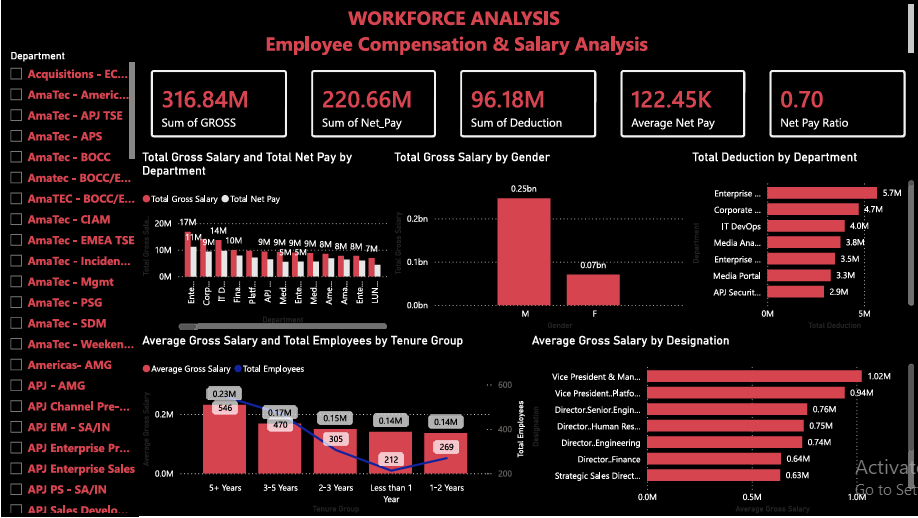

The dashboard page shown, as its layout file describes it:
{"tool":"powerbi","page":{"name":"Page 2","canvas":[1280,720],"ordinal":1},"visuals":[{"type":"lineClusteredColumnComboChart","fields":{"Category":["NW.Tenure Group"],"Y":["Measure.Average Gross Salary"],"Y2":["Measure.Total Employees"]},"box":[192,464,544,256],"z":0},{"type":"clusteredColumnChart","fields":{"Category":["NW.Department"],"Y":["Measure.Total Gross Salary","Measure.Total Net Pay"]},"box":[192,208,352,256],"z":1000},{"type":"clusteredColumnChart","fields":{"Category":["NW.Gender"],"Y":["Measure.Total Gross Salary"]},"box":[544,208,416,256],"z":2000},{"type":"clusteredBarChart","fields":{"Y":["Measure.Total Deduction"],"Category":["NW.Department"]},"box":[960,208,320,256],"z":3000},{"type":"barChart","fields":{"Category":["NW.Designation"],"Y":["Measure.Average Gross Salary"]},"box":[736,464,544,256],"z":4000},{"type":"textbox","box":[0,0,1280,80],"z":5000},{"type":"slicer","fields":{"Values":["NW.Department"]},"box":[0,64,192,656],"z":6000},{"type":"cardVisual","fields":{"Data":["Sum(NW.GROSS)"]},"box":[192,80,224,128],"z":7000},{"type":"cardVisual","fields":{"Data":["Sum(NW.Net_Pay)"]},"box":[416,80,208,128],"z":8000},{"type":"cardVisual","fields":{"Data":["Sum(NW.Deduction)"]},"box":[624,80,224,128],"z":9000},{"type":"cardVisual","fields":{"Data":["Measure.Average Net Pay"]},"box":[848,80,208,128],"z":10000},{"type":"cardVisual","fields":{"Data":["Measure.Net Pay Ratio"]},"box":[1056,80,224,128],"z":11000}]}

Visuals, with their boxes in screenshot pixels (x1, y1, x2, y2), scaled from the page's 1280x720 canvas onto the 918x518 screenshot:
lineClusteredColumnComboChart - NW.Tenure Group x Measure.Average Gross Salary: 138, 334, 528, 517
clusteredColumnChart - NW.Department x Measure.Total Gross Salary: 138, 150, 390, 334
clusteredColumnChart - NW.Gender x Measure.Total Gross Salary: 390, 150, 688, 334
clusteredBarChart - Measure.Total Deduction x NW.Department: 688, 150, 917, 334
barChart - NW.Designation x Measure.Average Gross Salary: 528, 334, 917, 517
textbox: 0, 0, 917, 58
slicer - NW.Department: 0, 46, 138, 517
cardVisual - Sum(NW.GROSS): 138, 58, 298, 150
cardVisual - Sum(NW.Net_Pay): 298, 58, 448, 150
cardVisual - Sum(NW.Deduction): 448, 58, 608, 150
cardVisual - Measure.Average Net Pay: 608, 58, 757, 150
cardVisual - Measure.Net Pay Ratio: 757, 58, 917, 150
